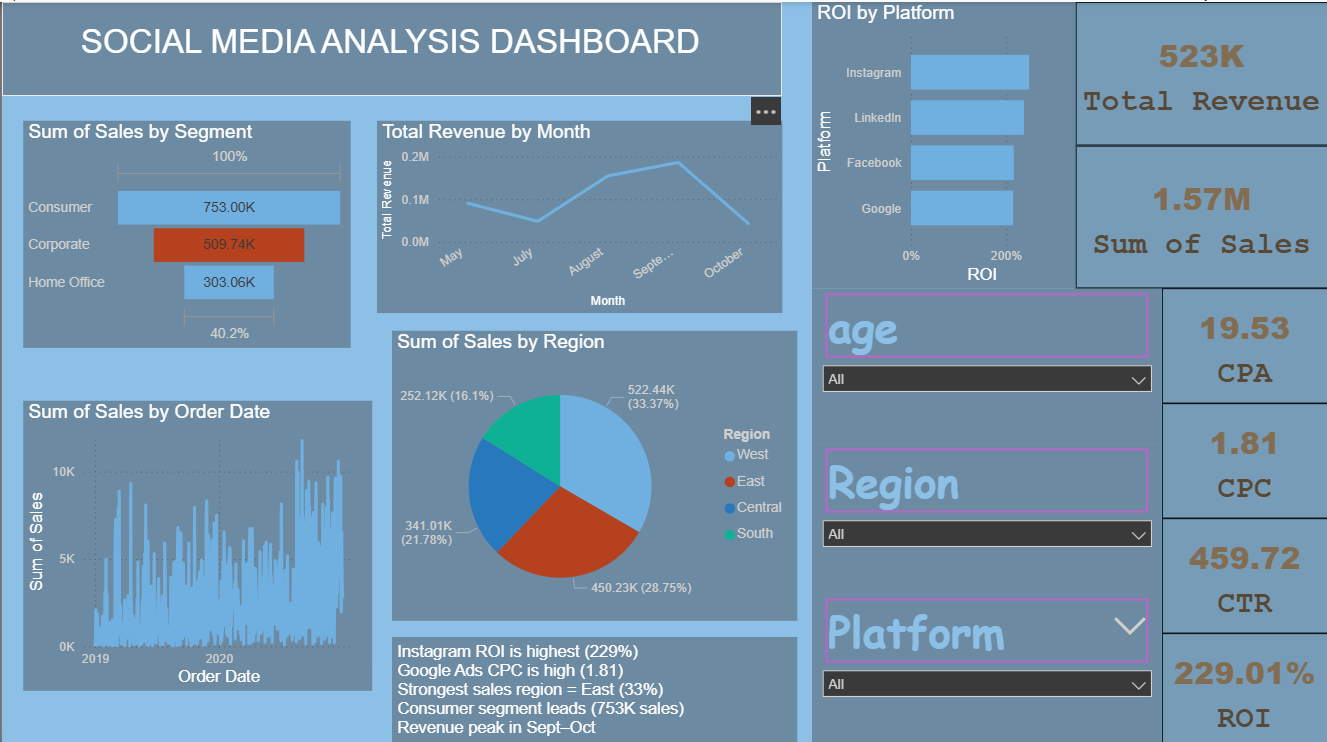

What the dashboard file says about the page in this screenshot:
{"tool":"powerbi","page":{"name":"Page 3","canvas":[1280,720],"ordinal":0},"visuals":[{"type":"card","fields":{"Values":["campaignPerformance.ROI"]},"box":[1119.6,609.3,160.5,111],"z":1},{"type":"card","fields":{"Values":["campaignPerformance.CPA"]},"box":[1119.6,276.3,160.5,111],"z":2},{"type":"card","fields":{"Values":["campaignPerformance.CPC"]},"box":[1119.6,387.3,160.5,111],"z":3},{"type":"card","fields":{"Values":["campaignPerformance.CTR"]},"box":[1119.6,498.3,160.5,111],"z":4},{"type":"card","fields":{"Values":["campaignPerformance.Total Revenue"]},"box":[1036.3,0,243.7,138.7],"z":6},{"type":"pieChart","fields":{"Category":["Sheet1.Region"],"Y":["Sum(Sheet1.Sales)"]},"box":[376.4,317.3,390.9,279.9],"z":8},{"type":"funnel","fields":{"Category":["Sheet1.Segment"],"Y":["Sum(Sheet1.Sales)"]},"box":[20.5,114.6,316.1,219.6],"z":9},{"type":"lineChart","fields":{"Category":["Sheet1.Order Date"],"Y":["Sum(Sheet1.Sales)"]},"box":[20.5,384.9,336.6,279.9],"z":10},{"type":"clusteredBarChart","fields":{"Category":["campaigninfo.Platform"],"Y":["campaignPerformance.ROI"]},"box":[781.8,0,254.6,276.3],"z":11},{"type":"slicer","fields":{"Values":["campaigninfo.Platform"]},"box":[781.8,570.6,337.8,149.6],"z":12},{"type":"slicer","fields":{"Values":["data.age"]},"box":[781.8,276.3,337.8,149.6],"z":13},{"type":"slicer","fields":{"Values":["campaigninfo.Region"]},"box":[781.8,425.9,337.8,144.8],"z":14},{"type":"lineChart","fields":{"Category":["campaigninfo.StartDate.Variation.Date Hierarchy.Month"],"Y":["campaignPerformance.Total Revenue"]},"box":[361.9,114.6,390.9,185.8],"z":15},{"type":"textbox","box":[0,0,752.8,90.5],"z":16},{"type":"card","fields":{"Values":["Sum(Sheet1.Sales)"]},"box":[1036.3,138.7,243.7,137.5],"z":17},{"type":"textbox","box":[376.4,612.9,390.9,107.4],"z":18}]}

Visuals, with their boxes in screenshot pixels (x1, y1, x2, y2), scaled from the page's 1280x720 canvas onto the 1327x742 screenshot:
card - campaignPerformance.ROI: detection(1161, 628, 1326, 741)
card - campaignPerformance.CPA: detection(1161, 285, 1326, 399)
card - campaignPerformance.CPC: detection(1161, 399, 1326, 514)
card - campaignPerformance.CTR: detection(1161, 514, 1326, 628)
card - campaignPerformance.Total Revenue: detection(1074, 0, 1326, 143)
pieChart - Sheet1.Region x Sum(Sheet1.Sales): detection(390, 327, 795, 615)
funnel - Sheet1.Segment x Sum(Sheet1.Sales): detection(21, 118, 349, 344)
lineChart - Sheet1.Order Date x Sum(Sheet1.Sales): detection(21, 397, 370, 685)
clusteredBarChart - campaigninfo.Platform x campaignPerformance.ROI: detection(811, 0, 1074, 285)
slicer - campaigninfo.Platform: detection(811, 588, 1161, 741)
slicer - data.age: detection(811, 285, 1161, 439)
slicer - campaigninfo.Region: detection(811, 439, 1161, 588)
lineChart - campaigninfo.StartDate.Variation.Date Hierarchy.Month x campaignPerformance.Total Revenue: detection(375, 118, 780, 310)
textbox: detection(0, 0, 780, 93)
card - Sum(Sheet1.Sales): detection(1074, 143, 1326, 285)
textbox: detection(390, 632, 795, 741)
